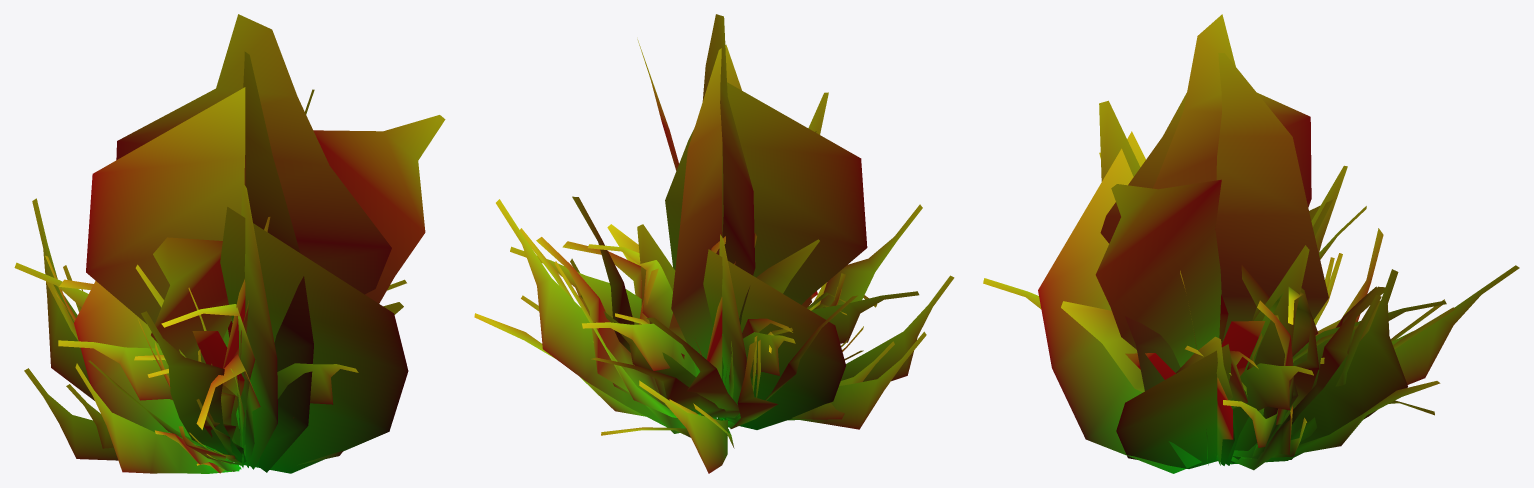
The model's file is tmjhcayia_Var1_LOD0.fbx.
The picture shows the model from 3 angles, left to right: view 1: azimuth 30°, elevation 25°; view 2: azimuth 150°, elevation 25°; view 3: azimuth 270°, elevation 25°; orthographic projection. The views are drawn at different scales.
Visible parts, largest first — view 1: Var1_LOD0; view 2: Var1_LOD0; view 3: Var1_LOD0.
Boxes of the visible parts, bbox=[...] form: Var1_LOD0: bbox=[14, 14, 445, 473]; Var1_LOD0: bbox=[474, 14, 954, 473]; Var1_LOD0: bbox=[983, 14, 1519, 473].
Bounding box in the file's own units: 23.04 × 24.24 × 26.4.
